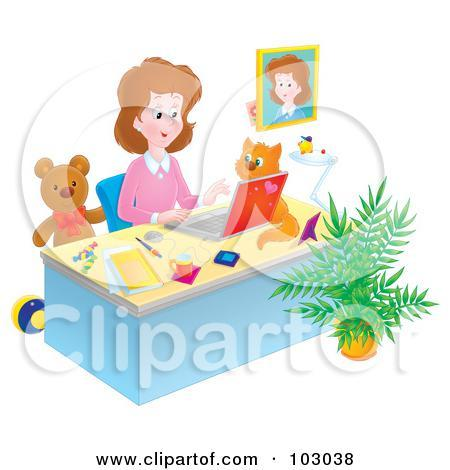cat: (232, 134, 301, 253)
person: (107, 55, 230, 234), (264, 49, 314, 123)
pottedplant: (275, 175, 442, 360)
